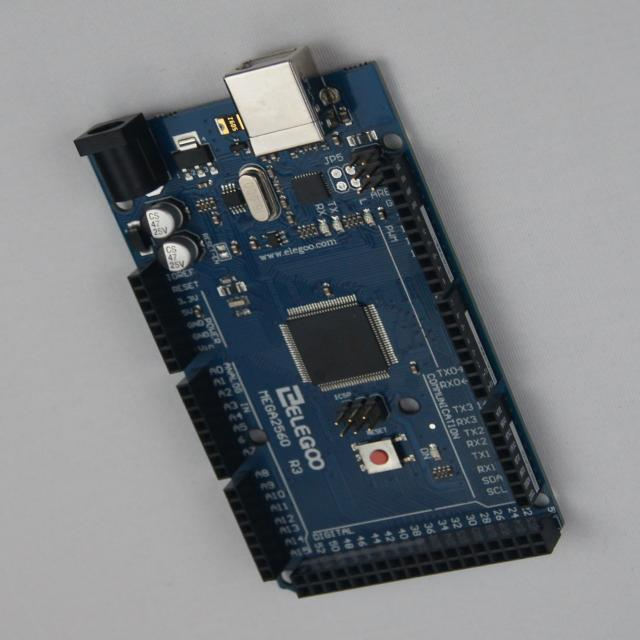Arduino Mega 2560 -Blue-: (75, 49, 564, 597)
